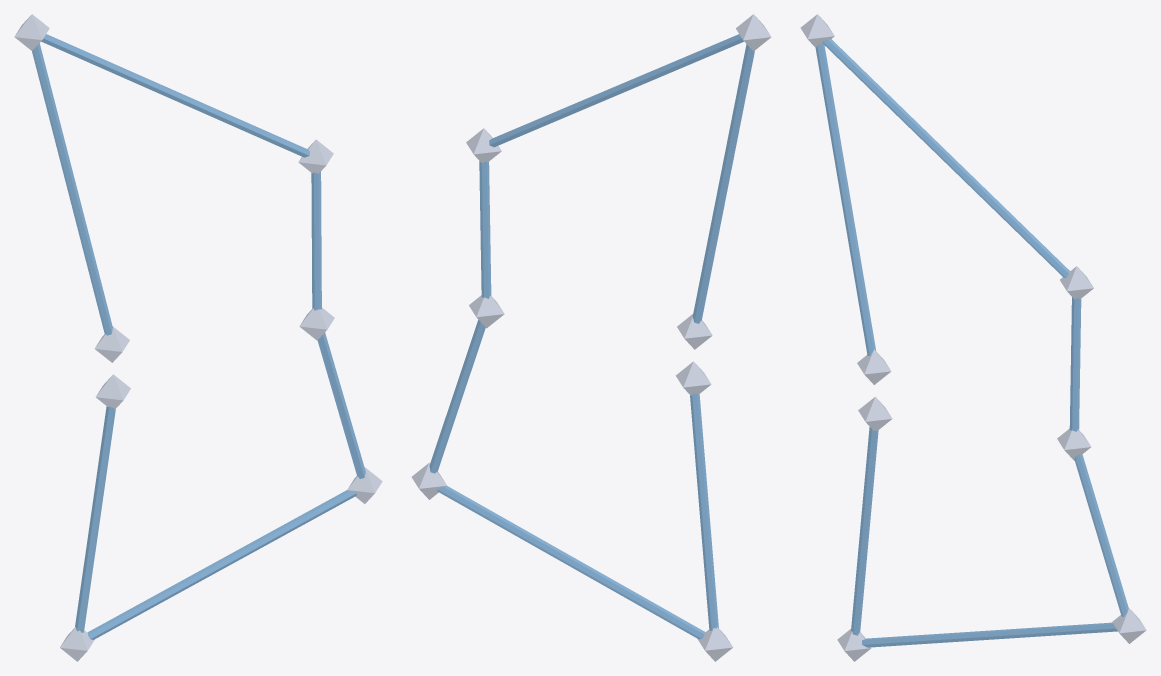
The model's file is constellation-ara.glb.
3 renders of one model, left to right at view 1: azimuth 30°, elevation 25°; view 2: azimuth 150°, elevation 25°; view 3: azimuth 330°, elevation 25°, orthographic. The views are drawn at different scales.
Bounding box in the file's own units: 0.6924 × 1.2 × 0.1042.
